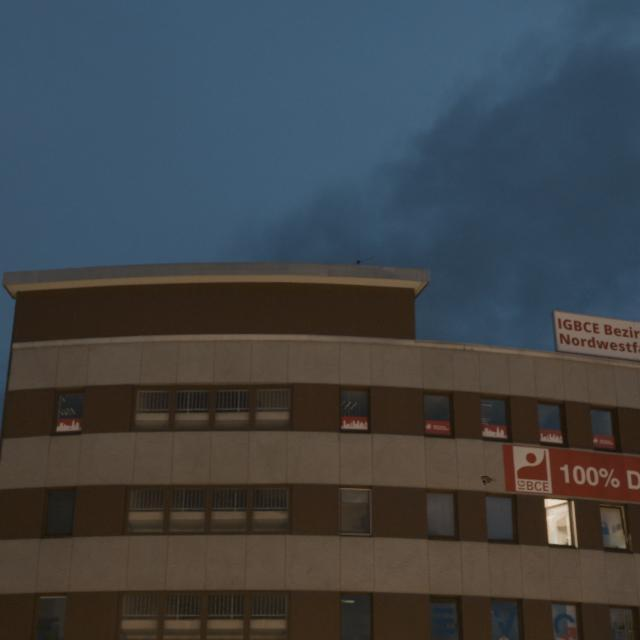Airaplan: (480, 476, 496, 486)
